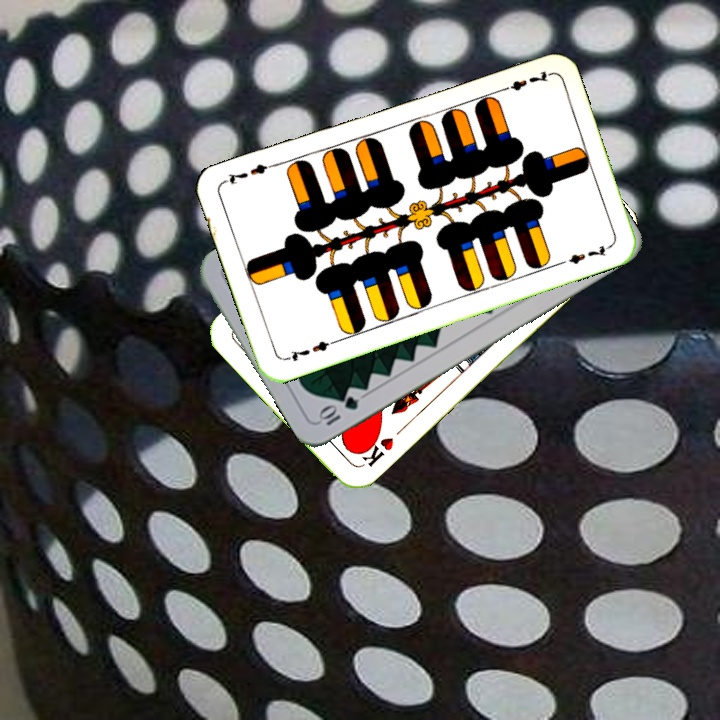E7: (494, 66, 552, 95), (281, 336, 338, 364)
G10: (314, 392, 361, 429)
HK: (354, 429, 397, 470)
